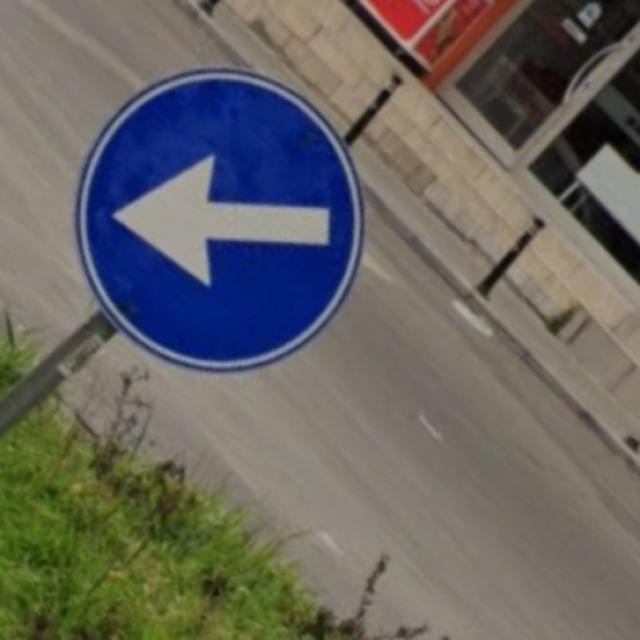Turn Left: (66, 71, 375, 382)
